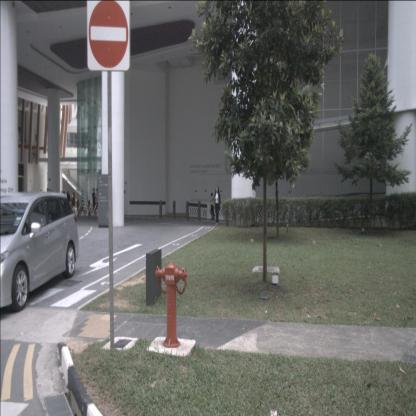human-pedestrian-adult: (214, 186, 221, 226), (209, 193, 215, 220), (95, 187, 99, 212), (92, 188, 96, 211), (67, 191, 71, 213), (72, 192, 75, 214)
vehicle-car: (0, 191, 79, 313)
